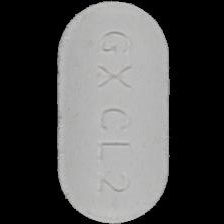0173-0526: (0, 0, 224, 224)
